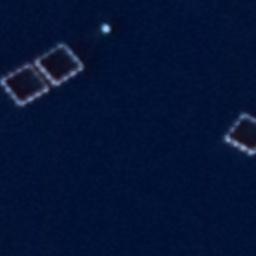square_solid: (32, 41, 85, 89), (1, 61, 52, 109), (221, 109, 256, 160)
